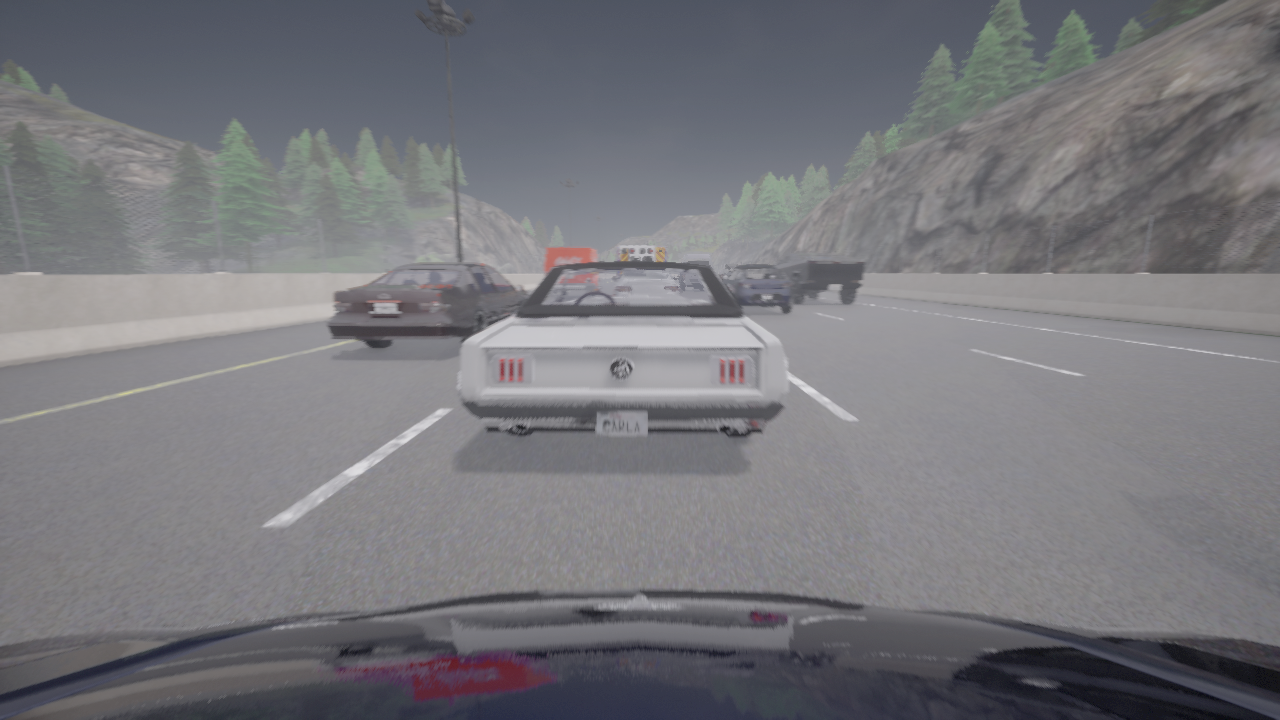cyclist: (0, 588, 1279, 719), (458, 262, 787, 437), (326, 262, 529, 348), (773, 252, 865, 303), (722, 265, 792, 313), (545, 246, 597, 275), (617, 246, 666, 262), (681, 253, 711, 267), (718, 265, 735, 281)
